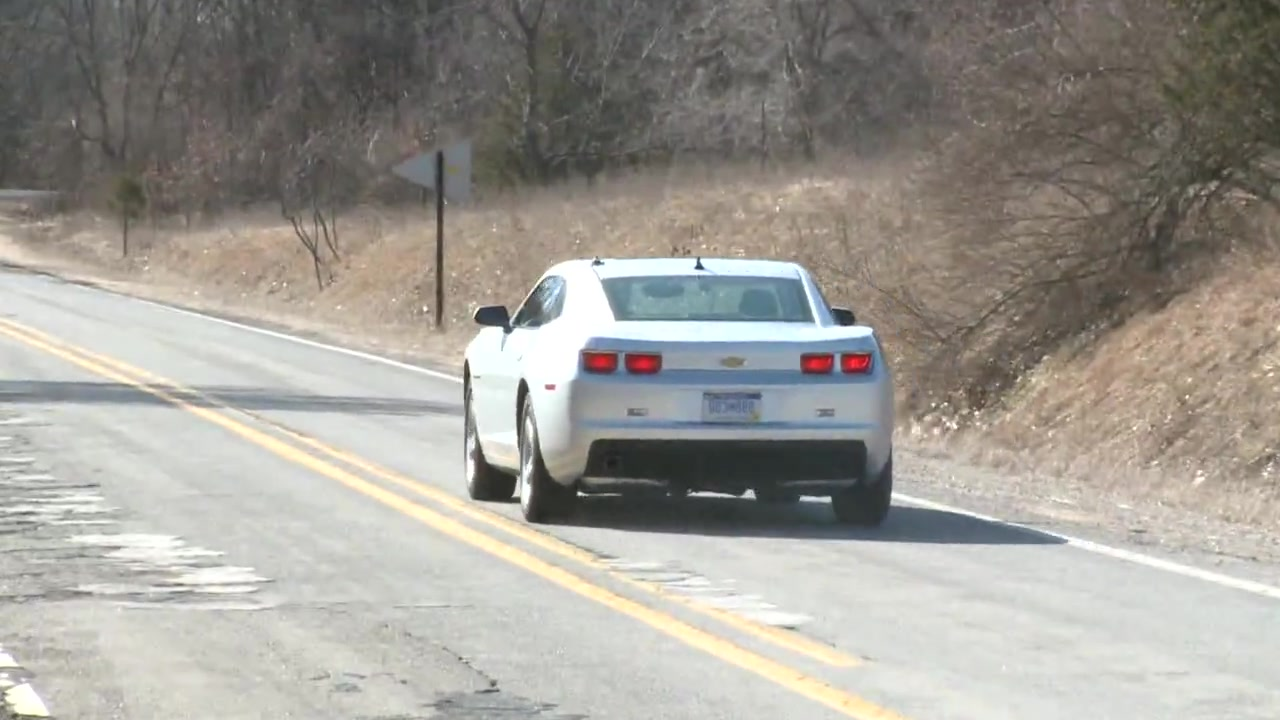car: (461, 256, 901, 531)
